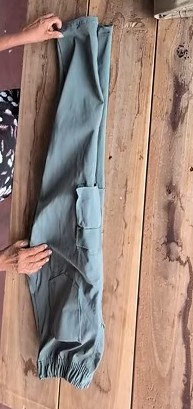TROUSER: (29, 92, 143, 398)
